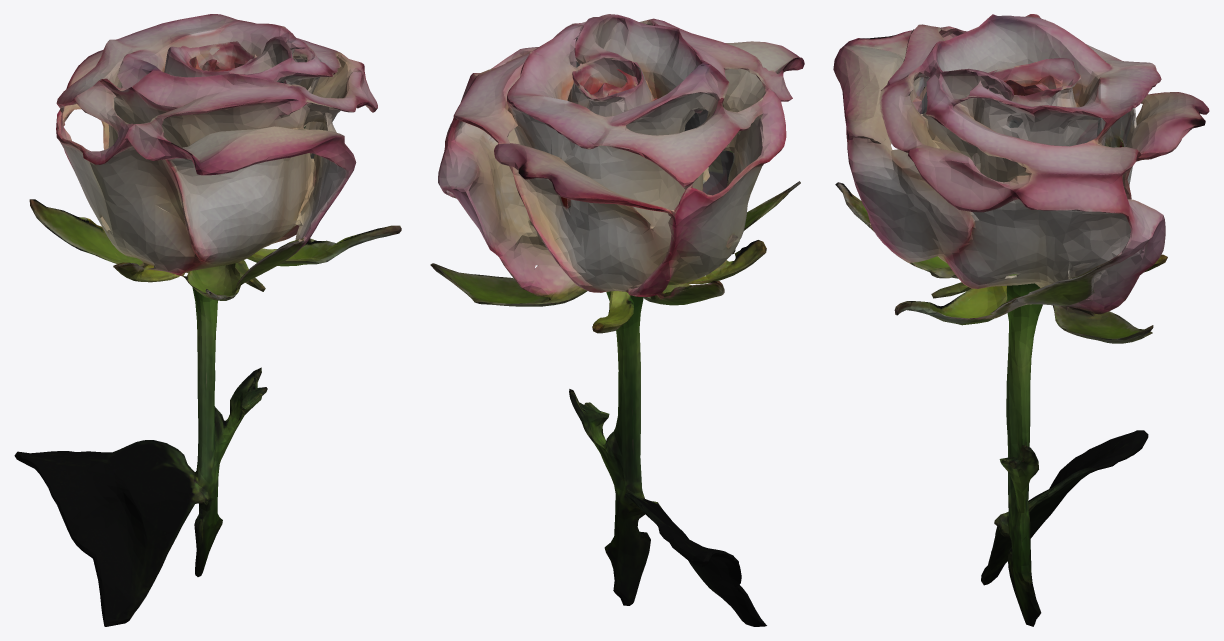
The picture shows the model from 3 angles, left to right: view 1: azimuth 30°, elevation 25°; view 2: azimuth 150°, elevation 25°; view 3: azimuth 270°, elevation 25°; orthographic projection. The views are drawn at different scales.
Visible parts, largest first — view 1: world; view 2: world; view 3: world.
Part boxes in pixels (left/top/right/bottom): world: left=14, top=14, right=401, bottom=626; world: left=430, top=14, right=804, bottom=626; world: left=833, top=14, right=1209, bottom=626.
Size of the model in its own units: 0.5559 by 0.9991 by 0.5711.
1 material, 1 textured.
